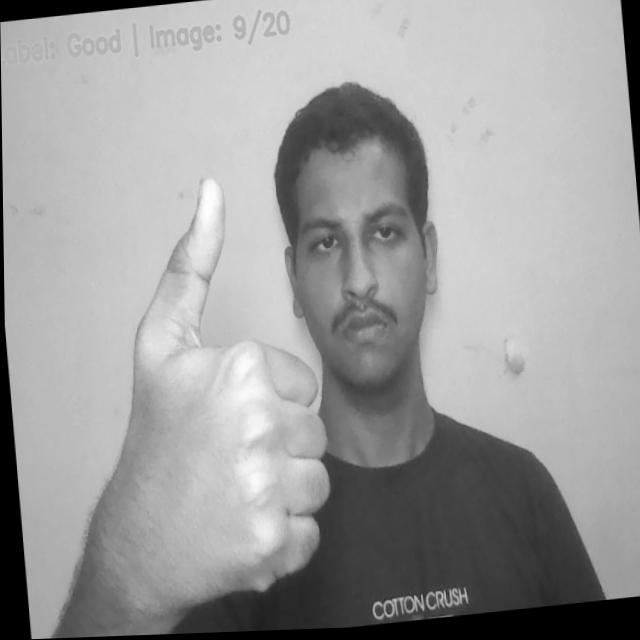Good: (102, 162, 344, 626)
